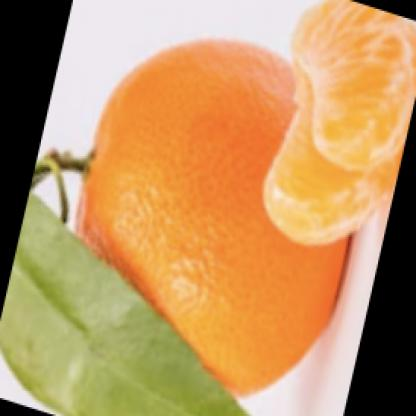orange: (62, 32, 350, 398)
